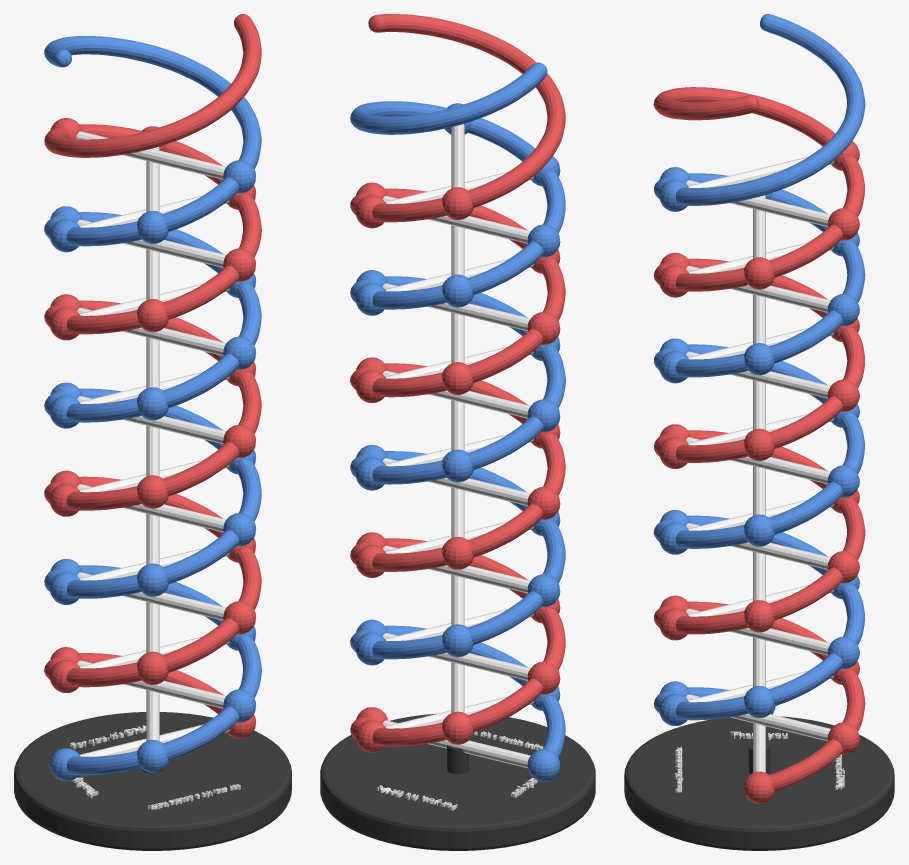
File: double_helix(DNA).glb
3 renders of one model, left to right at view 1: azimuth 30°, elevation 25°; view 2: azimuth 150°, elevation 25°; view 3: azimuth 270°, elevation 25°, orthographic. The views are drawn at different scales.
Parts seen in each view (by area): view 1: BLUE_Helix, RED_Helix, BLACK_Base, WHITE_Connectors; view 2: RED_Helix, BLUE_Helix, BLACK_Base, WHITE_Connectors; view 3: RED_Helix, BLUE_Helix, BLACK_Base, WHITE_Connectors.
Part boxes in pixels (x1=…): BLUE_Helix: x1=44, y1=36, x2=261, y2=781; RED_Helix: x1=44, y1=14, x2=261, y2=738; BLACK_Base: x1=14, y1=712, x2=291, y2=850; WHITE_Connectors: x1=70, y1=131, x2=240, y2=810; RED_Helix: x1=350, y1=14, x2=565, y2=752; BLUE_Helix: x1=350, y1=62, x2=565, y2=781; BLACK_Base: x1=320, y1=713, x2=595, y2=850; WHITE_Connectors: x1=377, y1=124, x2=543, y2=810; RED_Helix: x1=653, y1=87, x2=865, y2=803; BLUE_Helix: x1=653, y1=14, x2=865, y2=725; BLACK_Base: x1=624, y1=716, x2=894, y2=850; WHITE_Connectors: x1=675, y1=156, x2=844, y2=792.
Bounding box in the file's own units: 0.05 × 0.1511 × 0.05.
